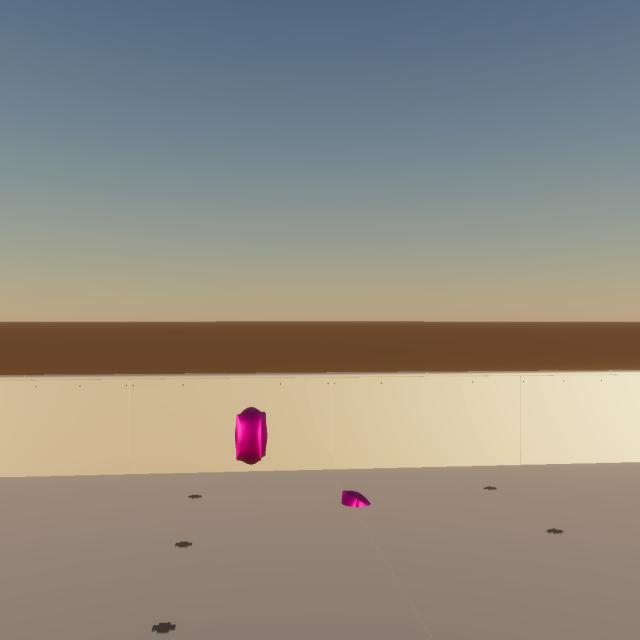frc_cube: (235, 407, 267, 465), (341, 491, 371, 507)
